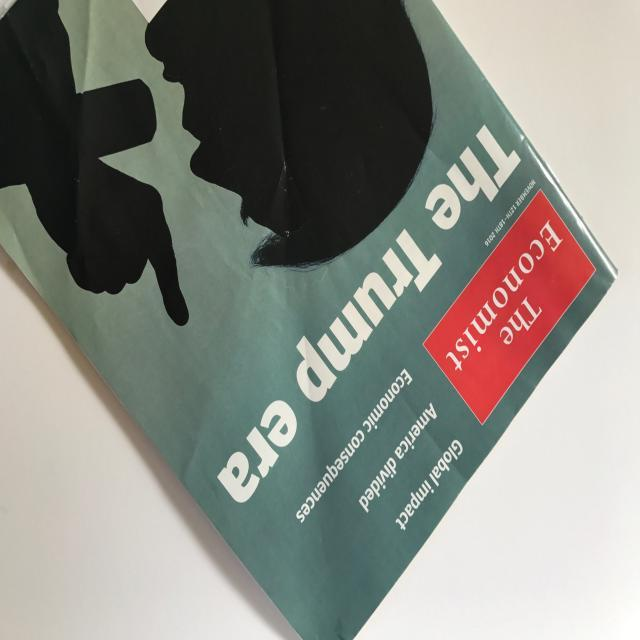paper: (1, 1, 620, 640)
